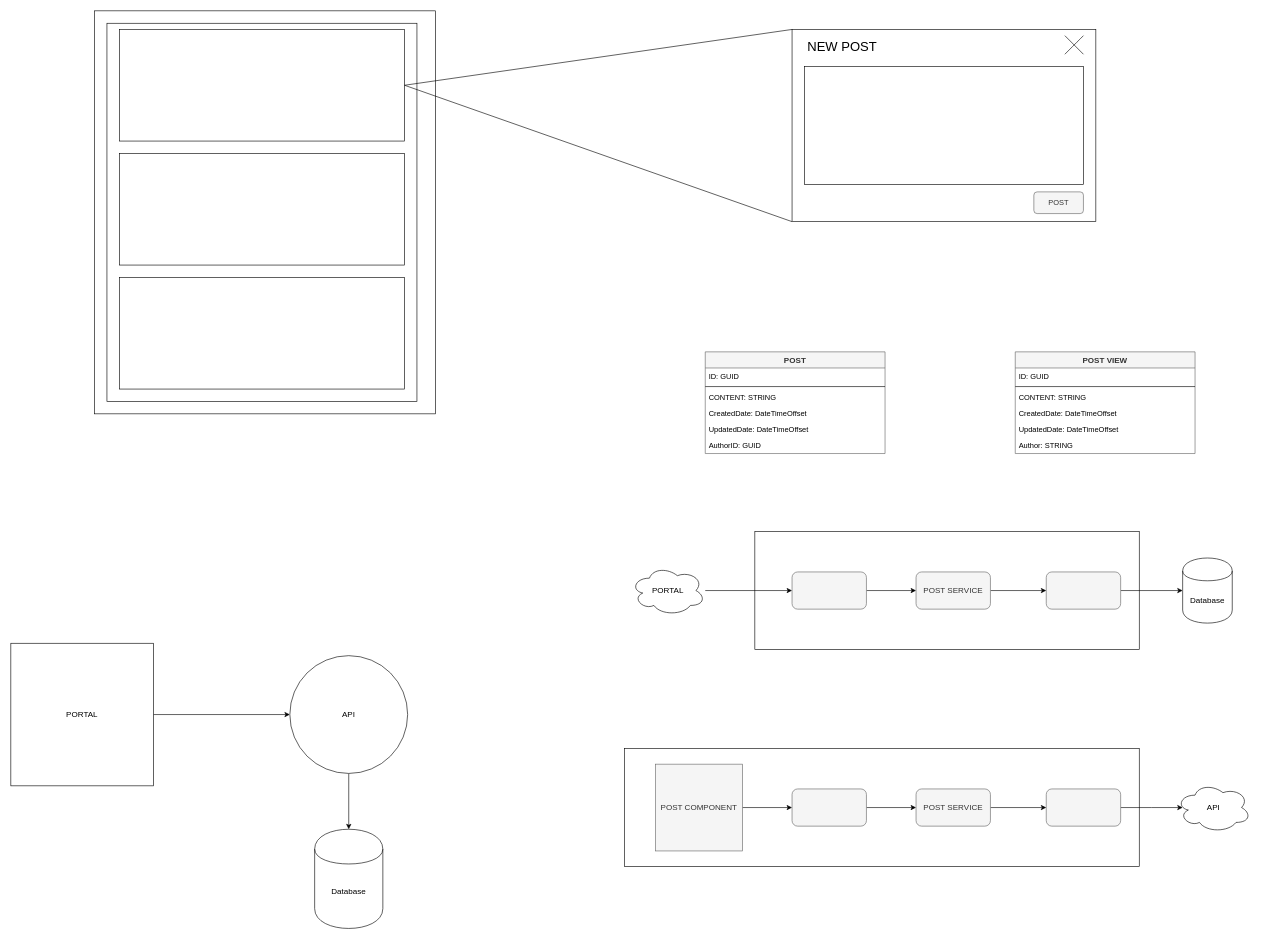
The diagram is 1262 pixels wide and 939 high, and some of its shapes have lost their labels. The centre of each missing label's shape, as x and y in pixels:
"POST API BROKER" goes at point 1083,807.
"POST CONTROLER" goes at point 828,590.
"POST STORAGE BROKER" goes at point 1083,590.
"POST VIEW SERVICE" goes at point 828,807.
